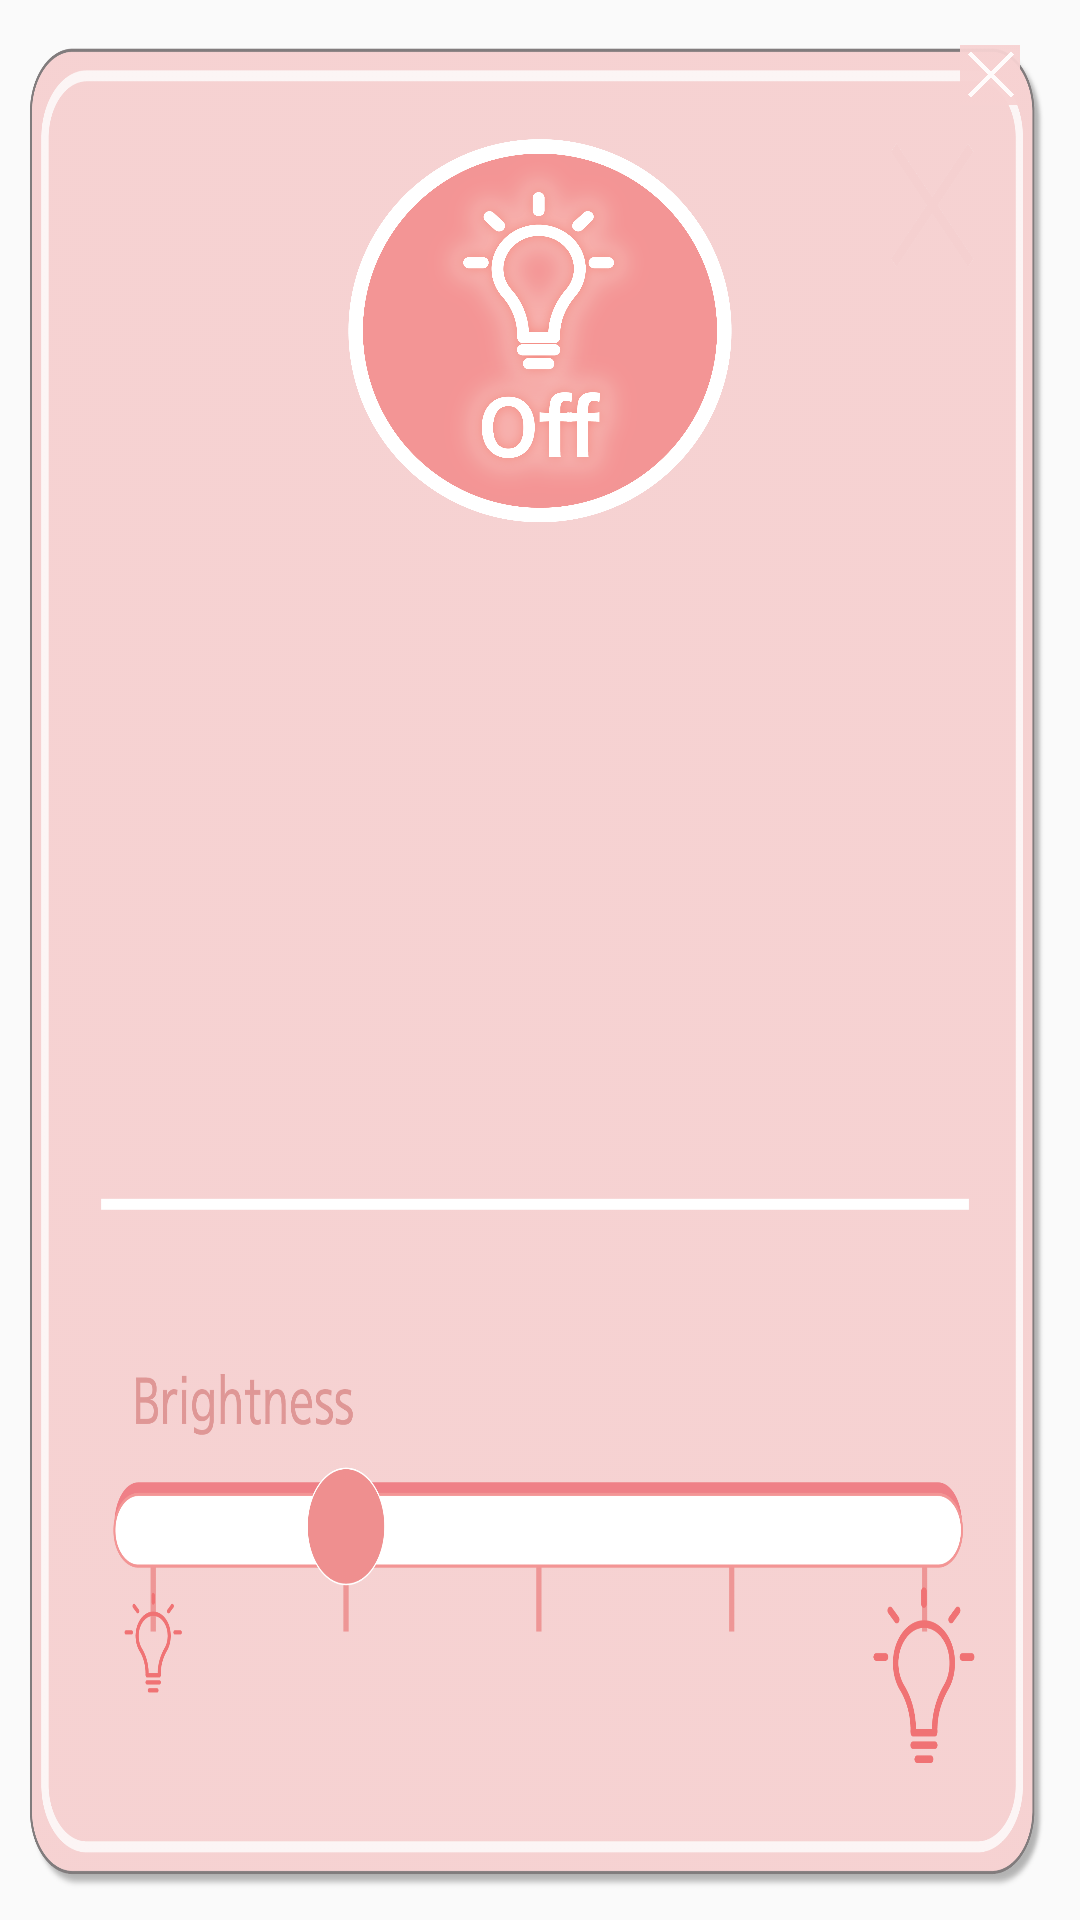

Named icons in this screenshot (1080 x 1920) and their centers, [x,y]:
cancel: [991,74]
